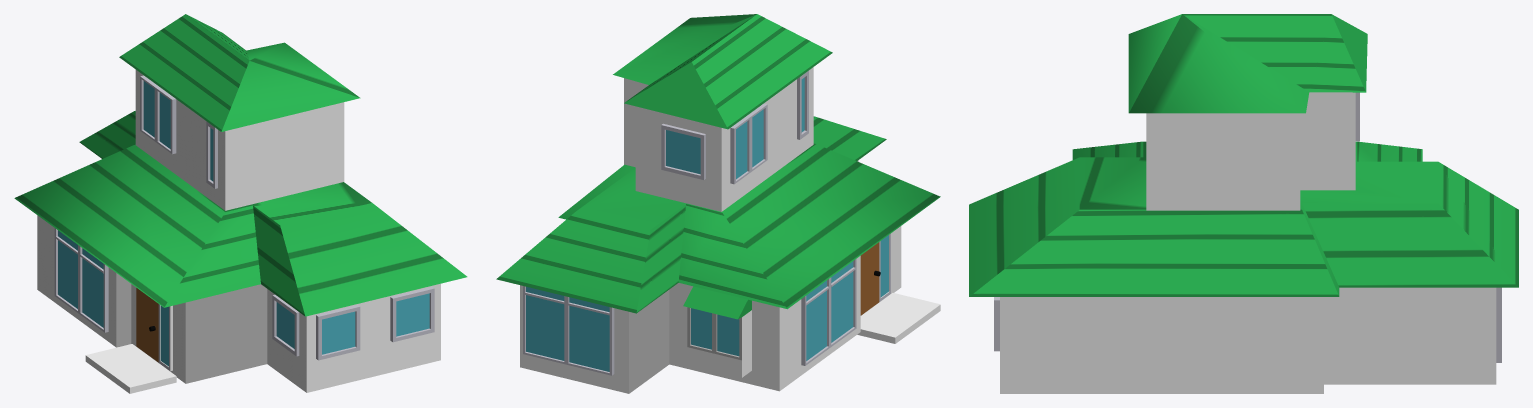
Rendered from House.fbx.
3 views of the same model, side by side, from view 1: azimuth 30°, elevation 25°; view 2: azimuth 150°, elevation 25°; view 3: azimuth 270°, elevation 25° (orthographic). The views are drawn at different scales.
Parts seen in each view (by area): view 1: House_LOD0; view 2: House_LOD0; view 3: House_LOD0.
Part boxes in pixels (x1=…): House_LOD0: x1=14, y1=14, x2=467, y2=393; House_LOD0: x1=496, y1=14, x2=940, y2=393; House_LOD0: x1=969, y1=14, x2=1518, y2=393.
Size of what is drawn, in the model's own units: 5.42 by 5.16 by 8.
